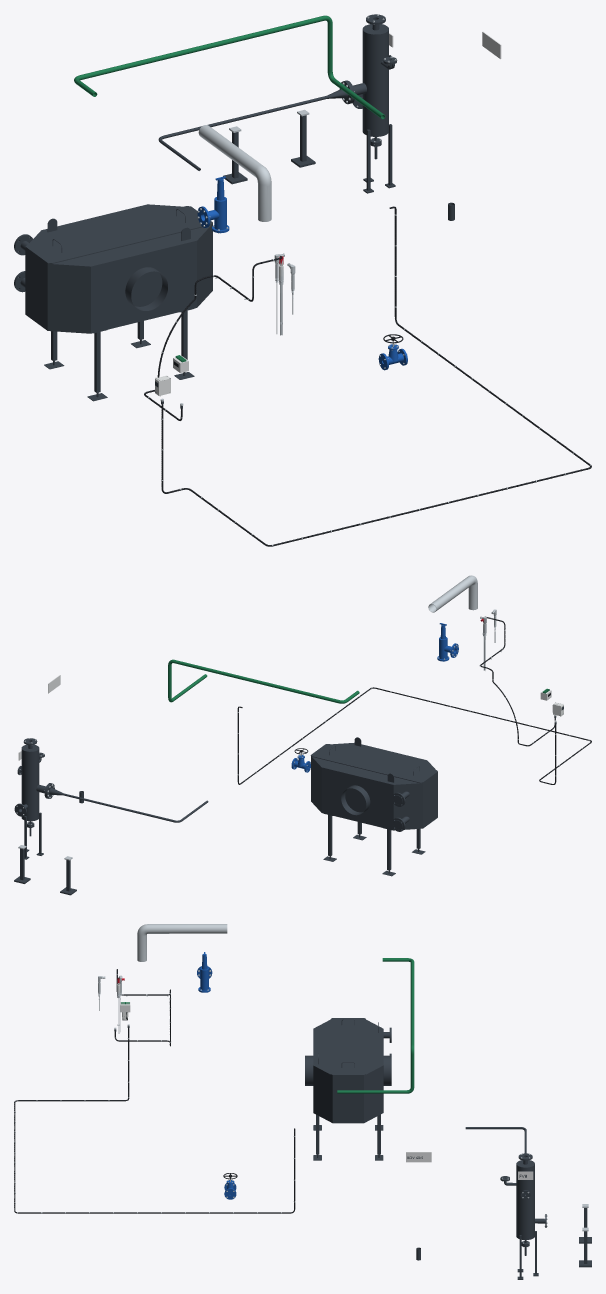
File: s4000-6-UaOiCjMo.glb
The picture shows the model from 3 angles, top to bottom: view 1: azimuth 30°, elevation 25°; view 2: azimuth 150°, elevation 25°; view 3: azimuth 270°, elevation 25°; orthographic projection. The views are drawn at different scales.
Visible parts, largest first — view 1: EQS2-1500 CAD 3, EQS2-1500 CAD 0, separator_fv8 / dark, EQS2-1500 CAD 1, to_direct / green, wiring_pump_2 / black, steam_rise / steel, tds_to_fv / dark, safety_2 / blue, trap_support / dark, wiring_lp400 / black; view 2: EQS2-1500 CAD 3, EQS2-1500 CAD 0, separator_fv8 / dark, EQS2-1500 CAD 2, to_direct / green, wiring_pump_2 / black, tds_to_fv / dark, steam_rise / steel, trap_support / dark, safety_2 / blue; view 3: EQS2-1500 CAD 3, separator_fv8 / dark, wiring_pump_2 / black, EQS2-1500 CAD 0, to_direct / green, steam_rise / steel.
Part boxes in pixels (box(x1,y1,x2,y2)): EQS2-1500 CAD 3: box(25, 204, 212, 330); EQS2-1500 CAD 0: box(44, 216, 196, 401); separator_fv8 / dark: box(345, 14, 397, 193); EQS2-1500 CAD 1: box(47, 263, 90, 333); to_direct / green: box(74, 15, 385, 119); wiring_pump_2 / black: box(161, 206, 591, 546); steam_rise / steel: box(223, 143, 271, 221); tds_to_fv / dark: box(158, 81, 353, 170); safety_2 / blue: box(197, 176, 229, 233); trap_support / dark: box(223, 115, 315, 184); wiring_lp400 / black: box(144, 256, 282, 420); EQS2-1500 CAD 3: box(310, 737, 437, 828); EQS2-1500 CAD 0: box(321, 767, 425, 876); separator_fv8 / dark: box(14, 738, 50, 859); EQS2-1500 CAD 2: box(391, 783, 422, 831); to_direct / green: box(168, 659, 359, 703); wiring_pump_2 / black: box(237, 687, 591, 784); tds_to_fv / dark: box(46, 783, 208, 822); steam_rise / steel: box(447, 575, 477, 610); trap_support / dark: box(14, 848, 76, 895); safety_2 / blue: box(437, 623, 458, 661); EQS2-1500 CAD 3: box(313, 1018, 383, 1123); separator_fv8 / dark: box(500, 1153, 546, 1279); wiring_pump_2 / black: box(14, 1028, 295, 1213); EQS2-1500 CAD 0: box(305, 1029, 391, 1160); to_direct / green: box(337, 958, 414, 1093); steam_rise / steel: box(137, 924, 192, 961).
Bounding box in the file's own units: 5.19 × 2.82 × 6.75.
